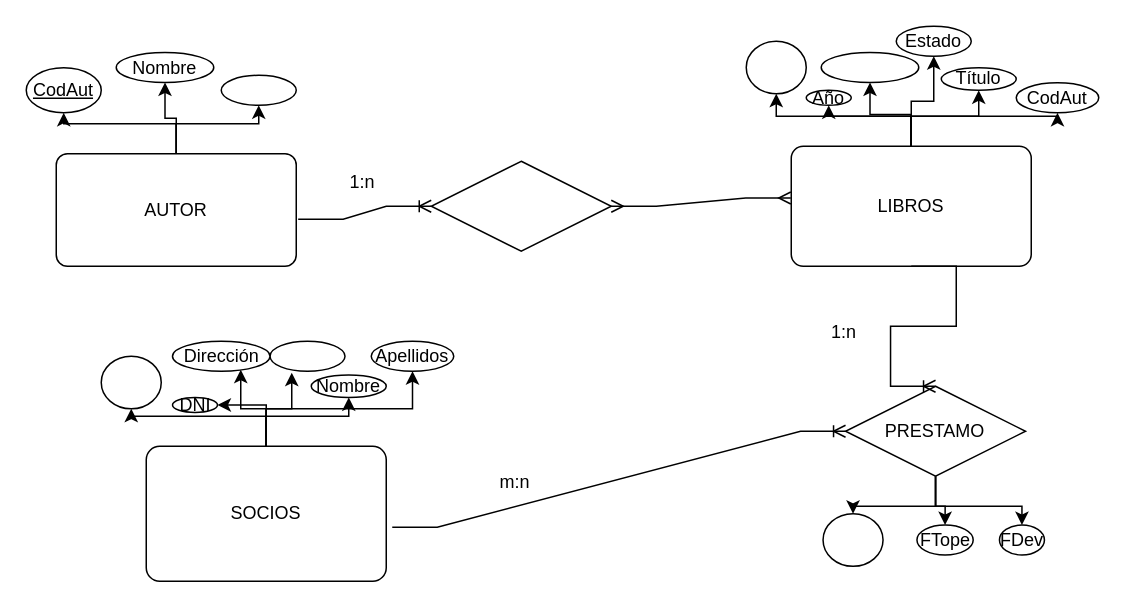
This 1125x608 diagram has some shape labels left out. The shapes that lost their labels are listed below. From the top down, each one's box as (x1, y1, x2, y2) in pixels, then its label:
(745, 40, 806, 94): ISBN
(820, 51, 919, 82): Editorial
(220, 74, 296, 105): Apellido
(430, 160, 611, 251): Escribe
(268, 340, 345, 371): Teléfono
(100, 355, 161, 409): CodSoc
(822, 512, 883, 566): FPrest
